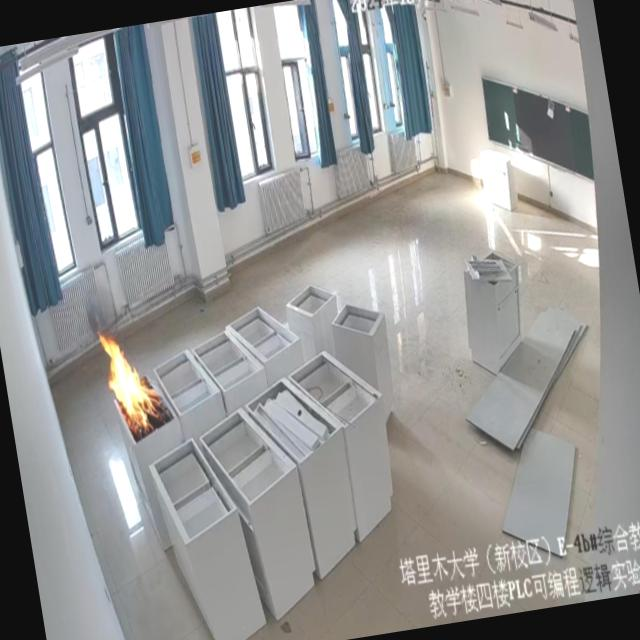fire: (87, 312, 195, 458)
